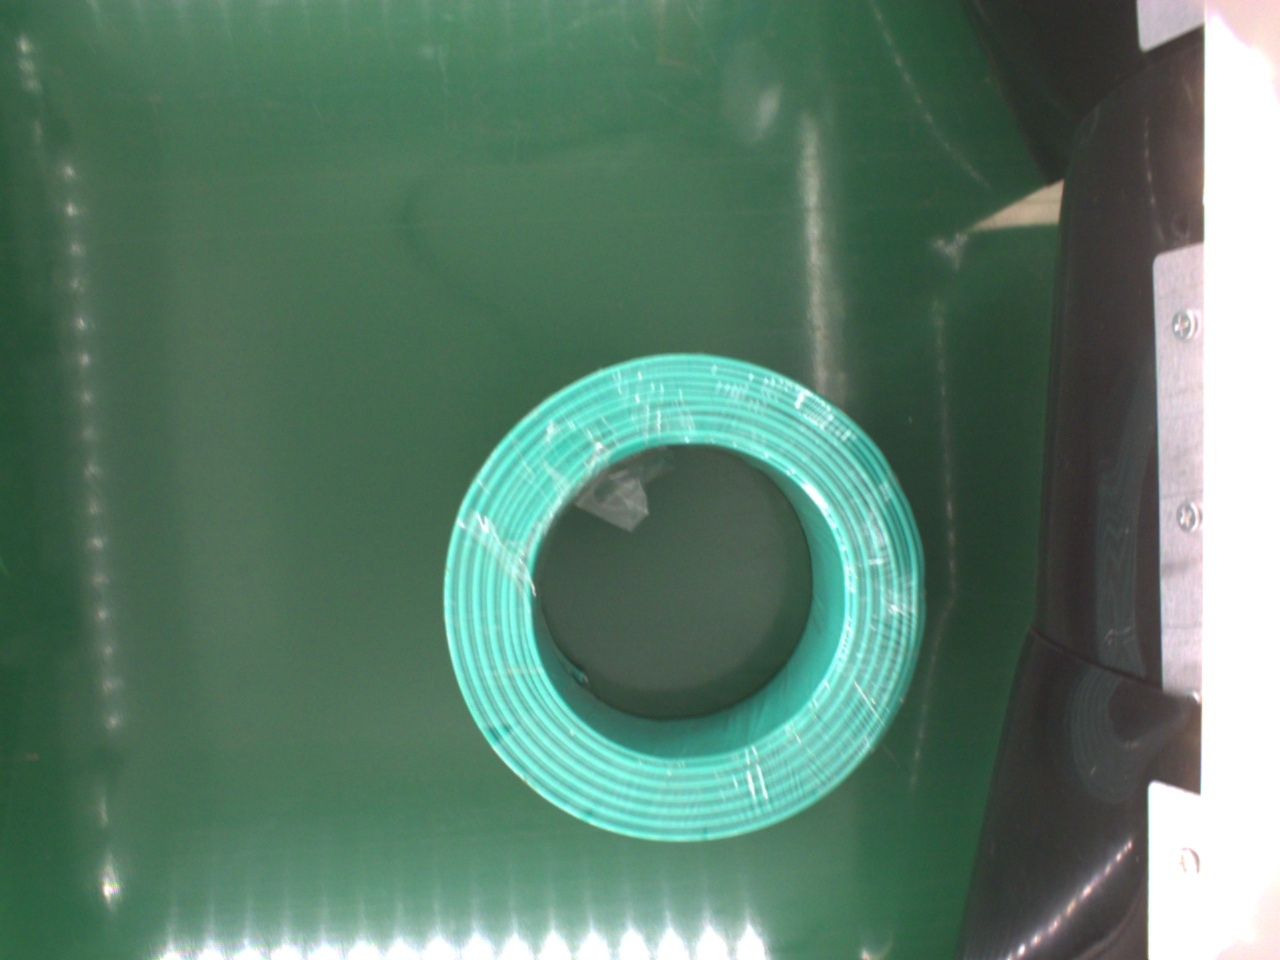green: (439, 354, 927, 844)
